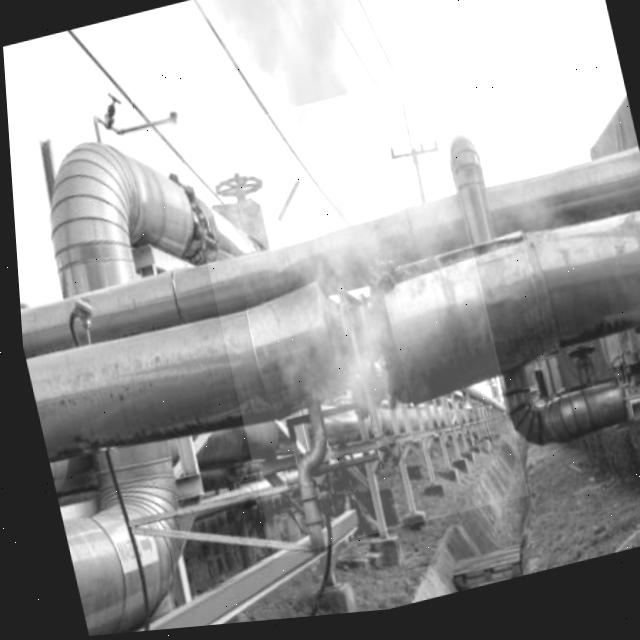corrosion: (178, 73, 529, 559)
